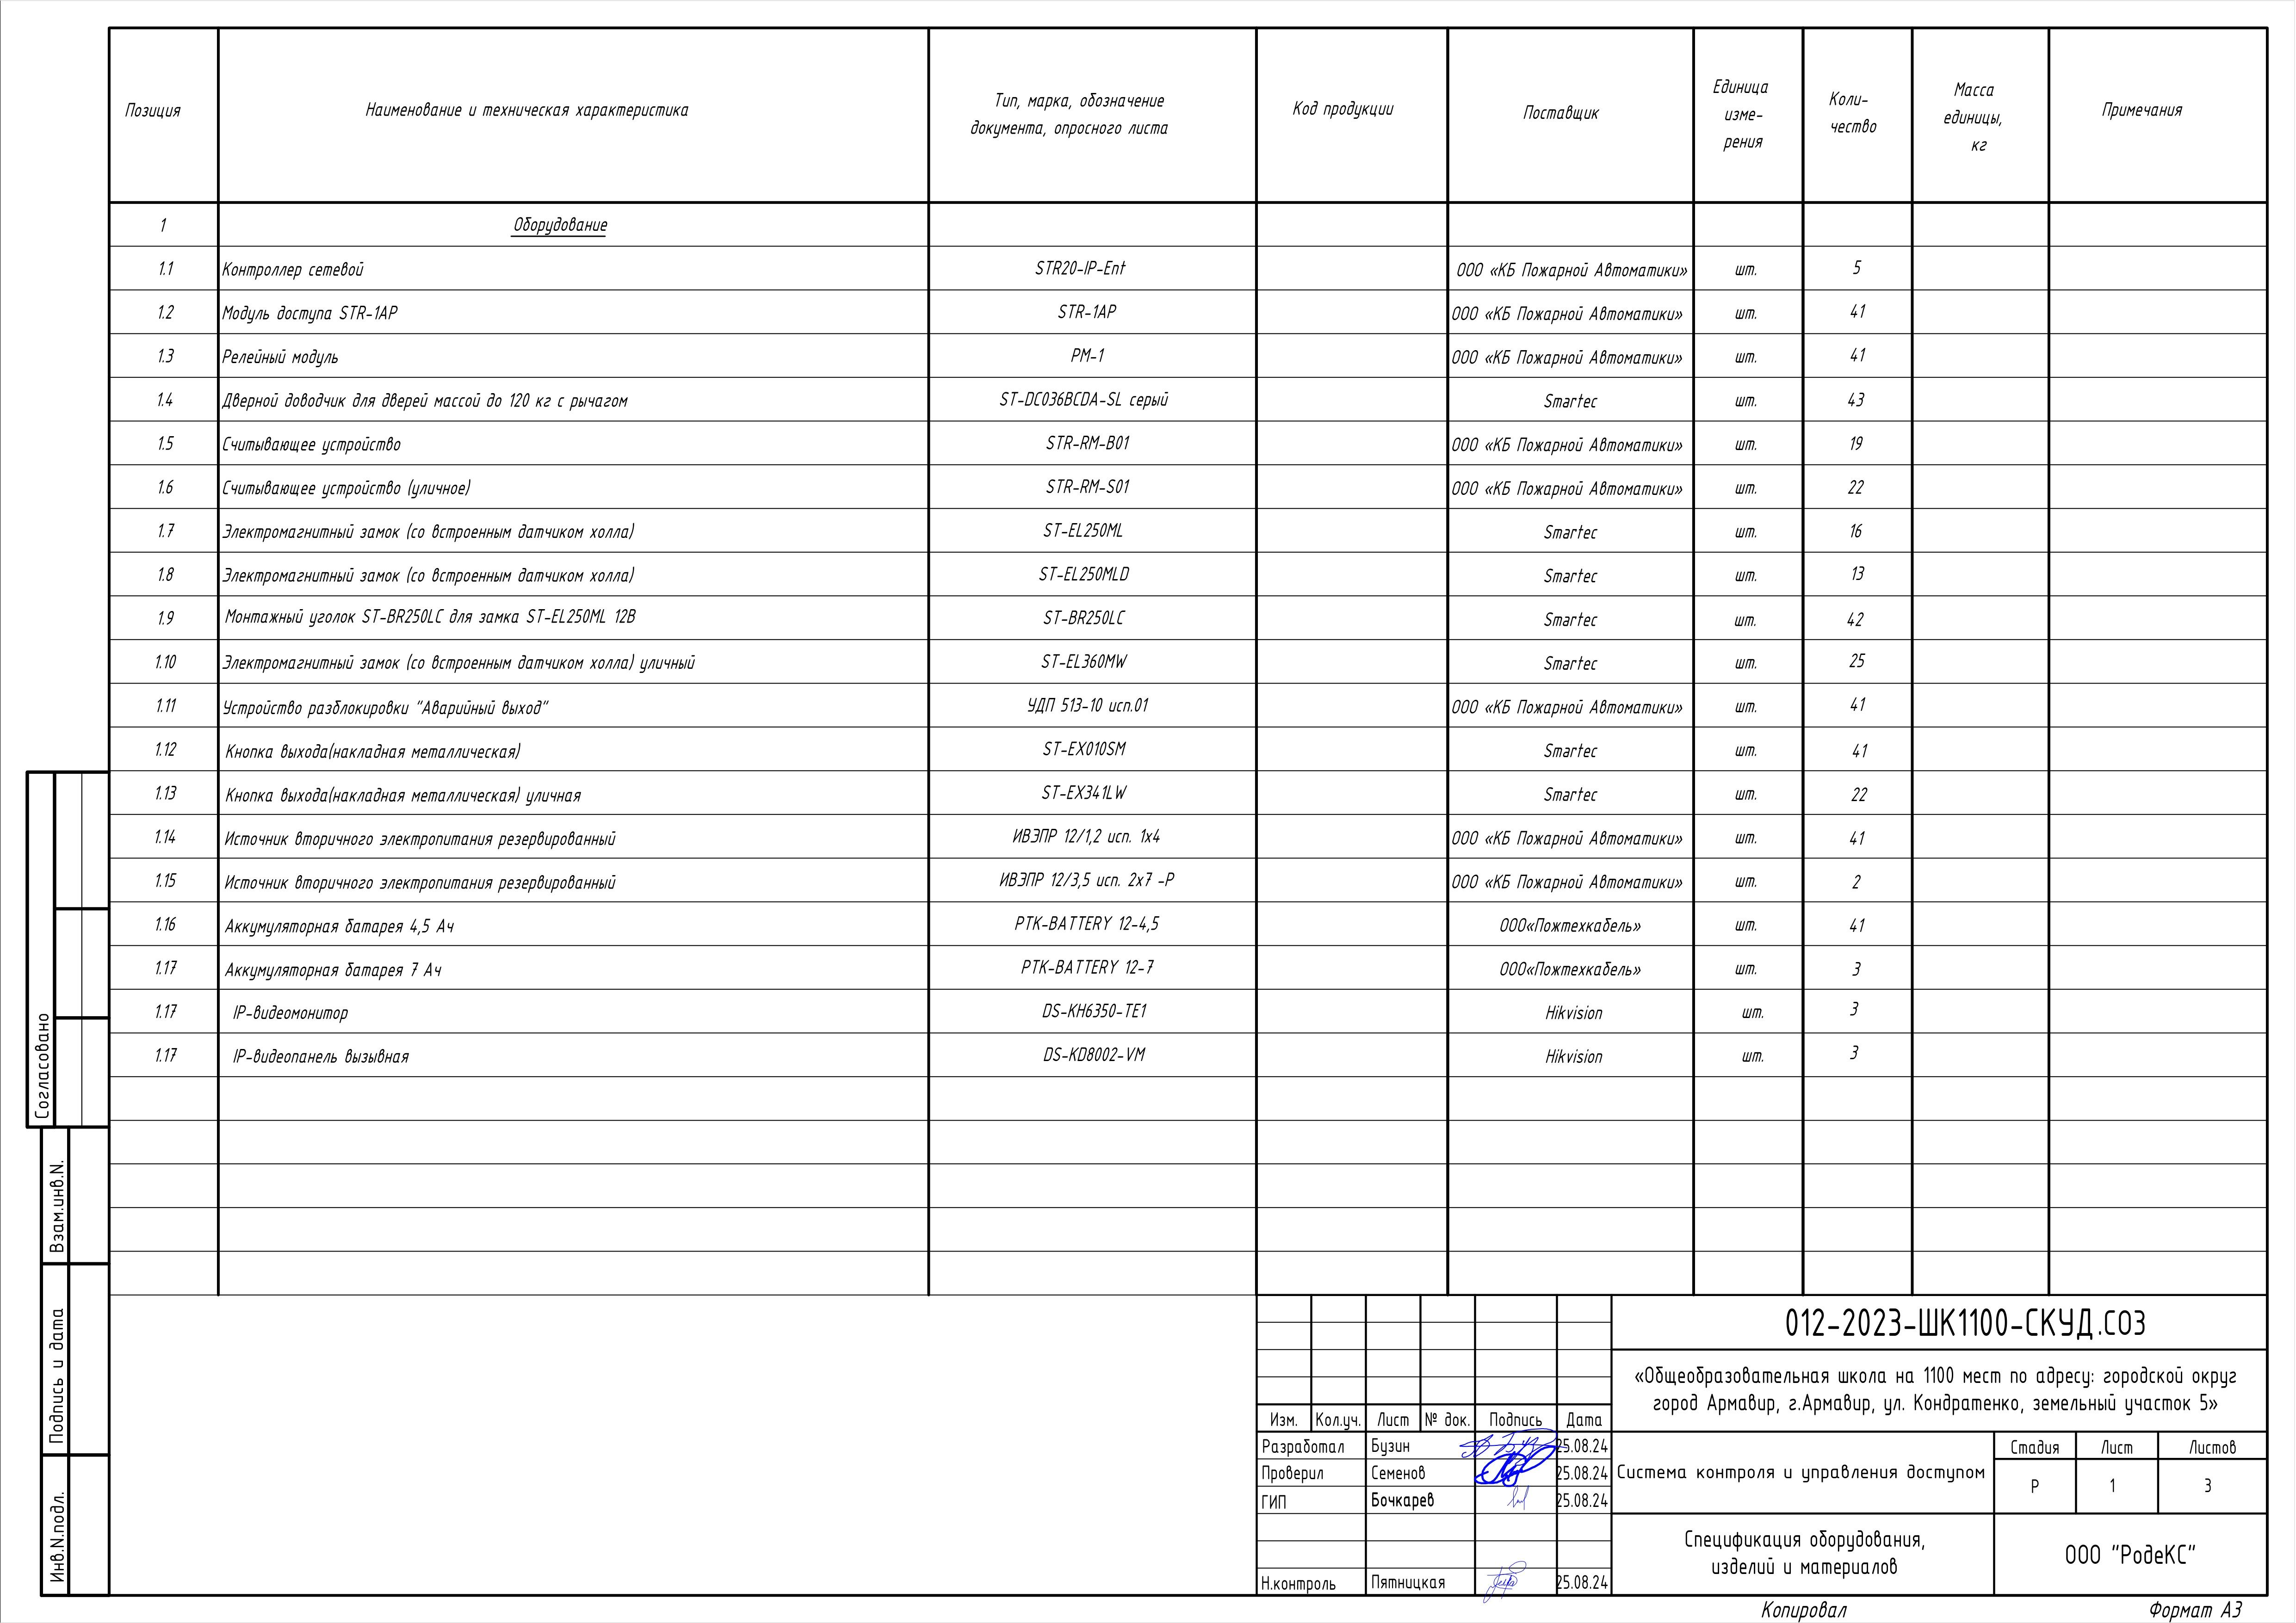Name of costs: (219, 202, 931, 1296)
Note: (930, 202, 1256, 1296)
Quantity: (1804, 204, 1912, 1294)
Unit of measurement: (1694, 203, 1804, 1295)
